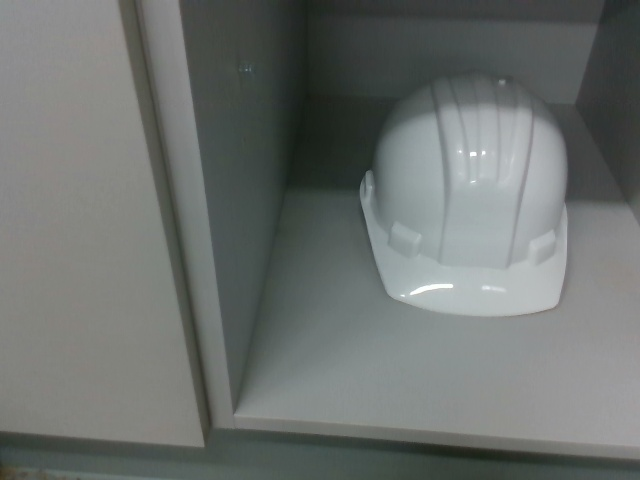helmet: (354, 69, 577, 318)
